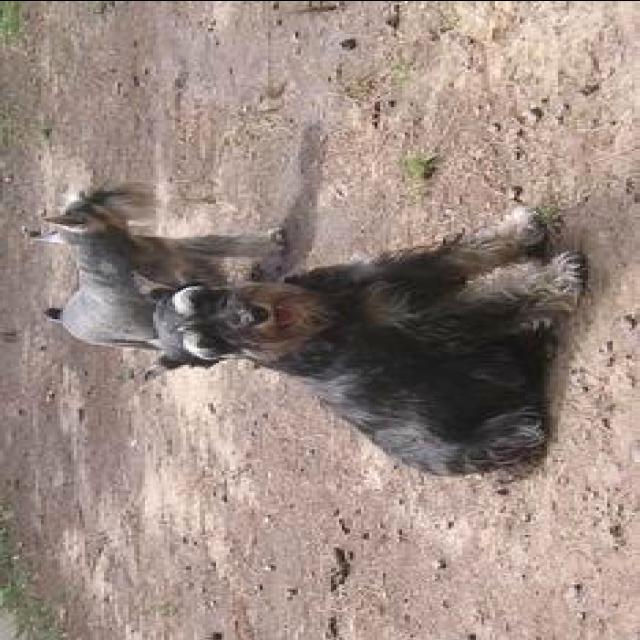standard_schnauzer: (128, 199, 594, 481), (28, 185, 282, 351)
